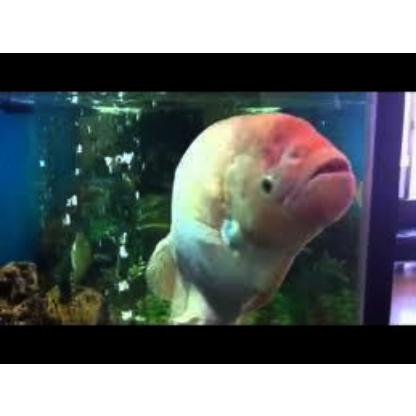gurame: (142, 115, 358, 324)
